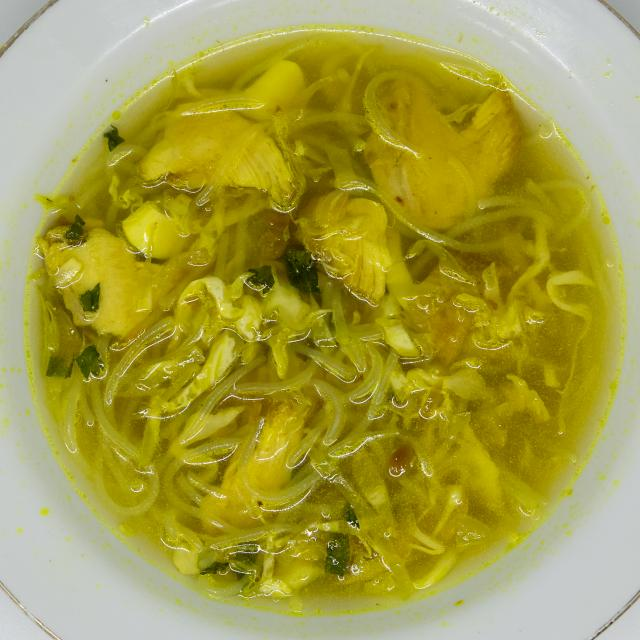Soto-Lamongan: (21, 15, 609, 632)
